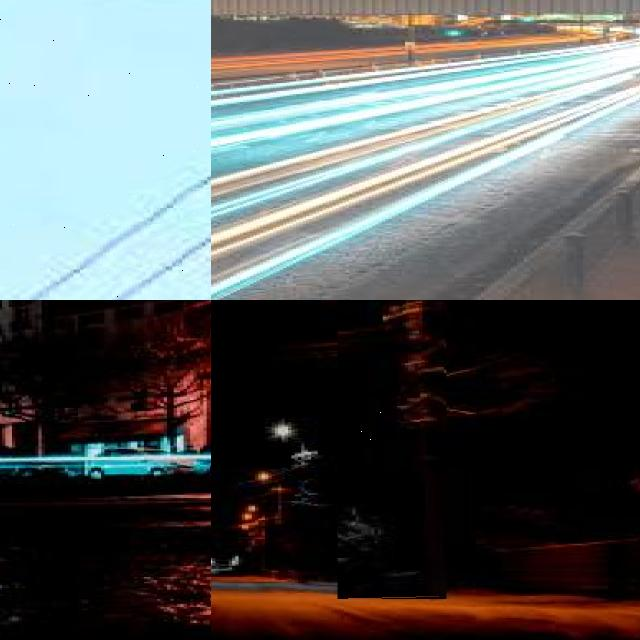street light: (0, 0, 211, 300), (337, 300, 446, 600), (275, 425, 308, 581), (262, 474, 288, 577), (248, 506, 270, 577)
